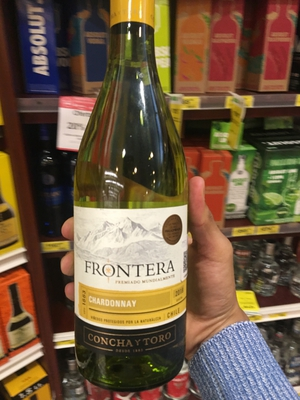frontera chardonnay: (60, 14, 199, 373)
